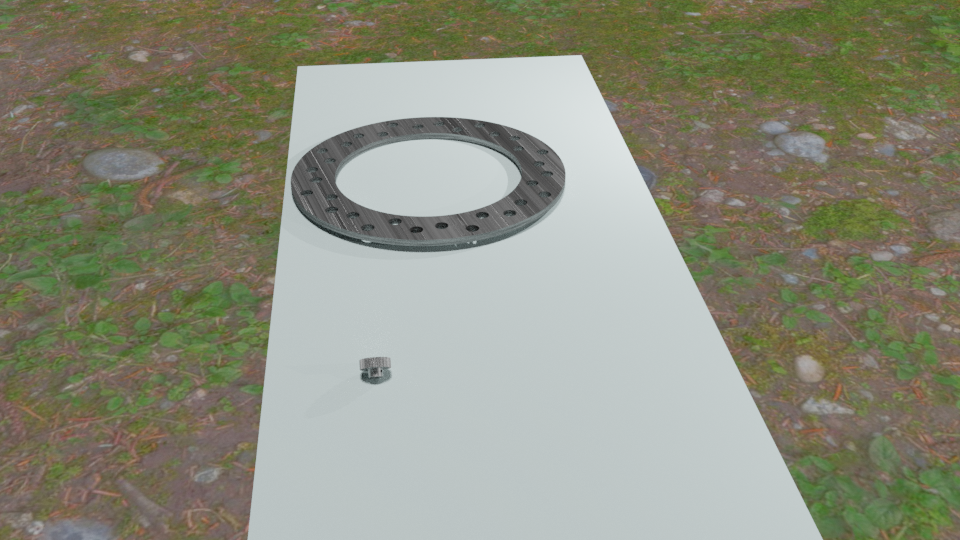yamaha_letters: (409, 221, 479, 233)
